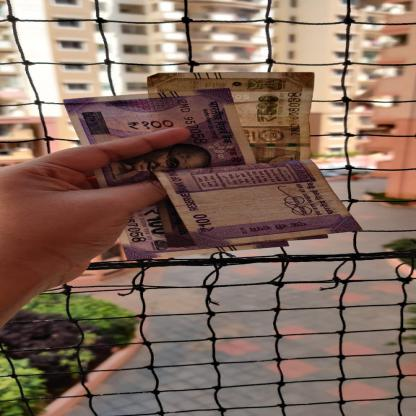New100Back: (154, 159, 365, 250)
New100Front: (62, 87, 292, 262)
New500Front: (146, 72, 316, 162)
